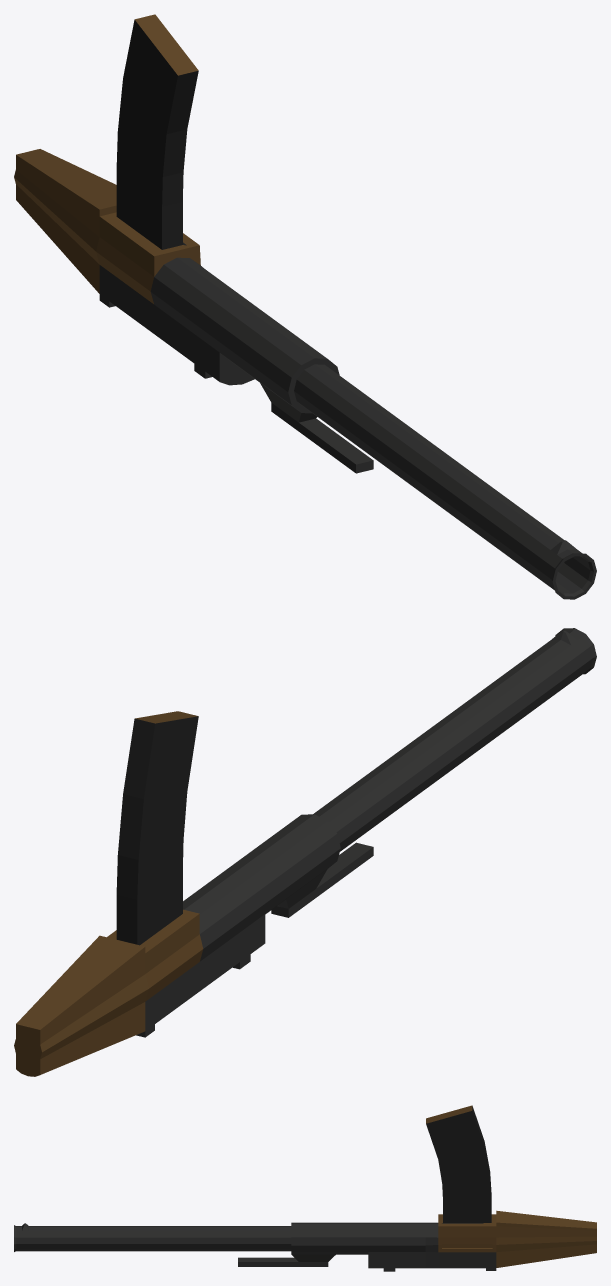
File: Rifle.fbx
3 renders of one model, top to bottom at view 1: azimuth 30°, elevation 25°; view 2: azimuth 150°, elevation 25°; view 3: azimuth 270°, elevation 25°, orthographic. The views are drawn at different scales.
Parts seen in each view (by area): view 1: Rifle; view 2: Rifle; view 3: Rifle.
Boxes of the visible parts, bbox=[...] form: Rifle: bbox=[14, 14, 596, 599]; Rifle: bbox=[14, 628, 596, 1076]; Rifle: bbox=[14, 1105, 596, 1271].
Bounding box in the file's own units: 0.1277 × 0.6863 × 2.3.
